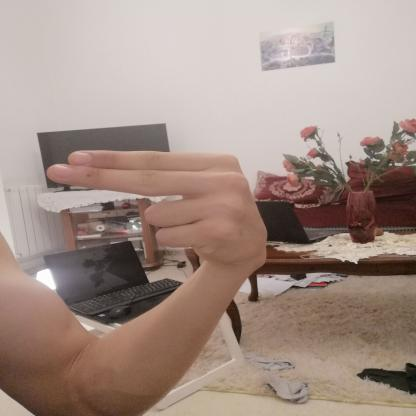AYN: (35, 138, 279, 272)
